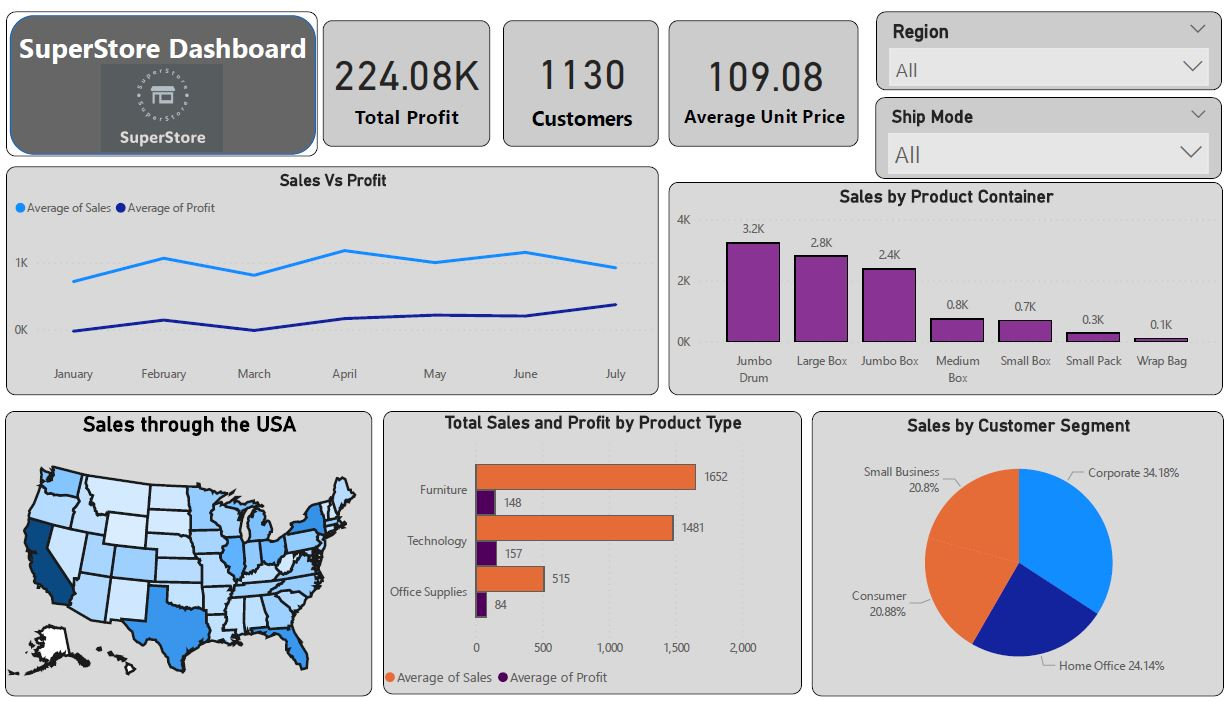

The page's visual inventory and layout, read from the dashboard file:
{"tool":"powerbi","page":{"name":"Page 1","canvas":[1280,720],"ordinal":0},"visuals":[{"type":"shape","box":[15.7,0,320,148.6],"z":0},{"type":"lineChart","title":"Sales Vs Profit","fields":{"Y":["Avg(Orders.Sales)","Avg(Orders.Profit)"],"Category":["Orders.Ship Date.Variation.Date Hierarchy.Month","Orders.Ship Date.Variation.Date Hierarchy.Day"]},"box":[15.7,158.6,670,235.7],"z":1000},{"type":"shapeMap","title":"Sales through the USA","fields":{"Category":["Orders.State or Province"],"Value":["CountNonNull(Orders.Sales)"]},"box":[15,410,376.7,293.3],"z":2000},{"type":"clusteredBarChart","title":"Total Sales and Profit by Product Type","fields":{"Category":["Orders.Product Category"],"Y":["Avg(Orders.Sales)","Avg(Orders.Profit)"]},"box":[402.9,410,430,291.4],"z":3000},{"type":"pieChart","title":"Sales by Customer Segment","fields":{"Category":["Orders.Customer Segment"],"Y":["Sum(Orders.Sales)"]},"box":[842.9,410,422.9,292.9],"z":4000},{"type":"slicer","fields":{"Values":["Orders.Ship Mode"]},"box":[908,88,355.7,84.3],"z":6000},{"type":"card","title":"Sales","fields":{"Values":["Count(Orders.Customer ID)"]},"box":[525.7,8.6,160,130],"z":7000},{"type":"card","fields":{"Values":["Sum(Orders.Profit)"]},"box":[341.4,8.6,171.4,130],"z":8000},{"type":"clusteredColumnChart","title":"Sales by Product Container","fields":{"Category":["Orders.Product Container"],"Y":["Avg(Orders.Sales)"]},"box":[696.2,175,568.8,218.8],"z":9000},{"type":"slicer","fields":{"Values":["Orders.Region"]},"box":[908.6,0,355.7,81.4],"z":10000},{"type":"card","fields":{"Values":["Avg(Orders.Unit Price)"]},"box":[695.7,8.6,195.7,130],"z":11000},{"type":"image","box":[25.7,48.6,300,100],"z":12000}]}

Visuals, with their boxes in screenshot pixels (x1, y1, x2, y2), scaled from the page's 1280x720 canvas onto the 1228x701 screenshot:
shape: 15:0:322:145
"Sales Vs Profit" lineChart: 15:154:658:384
"Sales through the USA" shapeMap: 14:399:376:685
"Total Sales and Profit by Product Type" clusteredBarChart: 387:399:799:683
"Sales by Customer Segment" pieChart: 809:399:1214:684
slicer - Orders.Ship Mode: 871:86:1212:168
"Sales" card: 504:8:658:135
card - Sum(Orders.Profit): 328:8:492:135
"Sales by Product Container" clusteredColumnChart: 668:170:1214:383
slicer - Orders.Region: 872:0:1213:79
card - Avg(Orders.Unit Price): 667:8:855:135
image: 25:47:312:145
